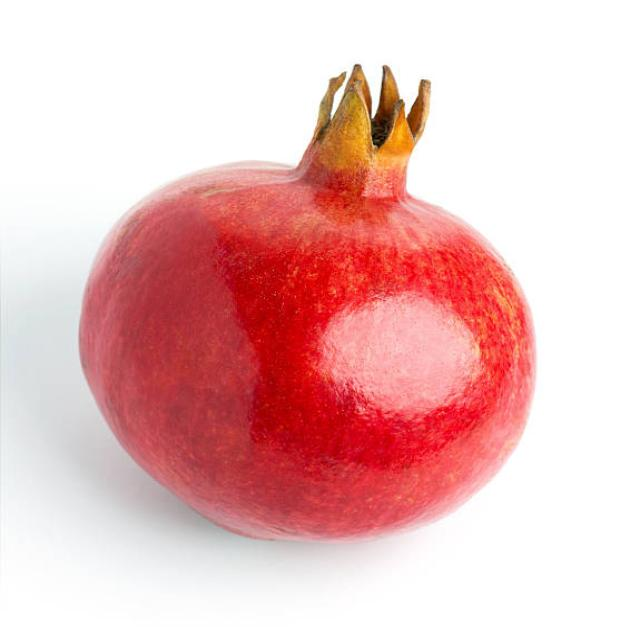Ripe: (71, 58, 547, 546)
